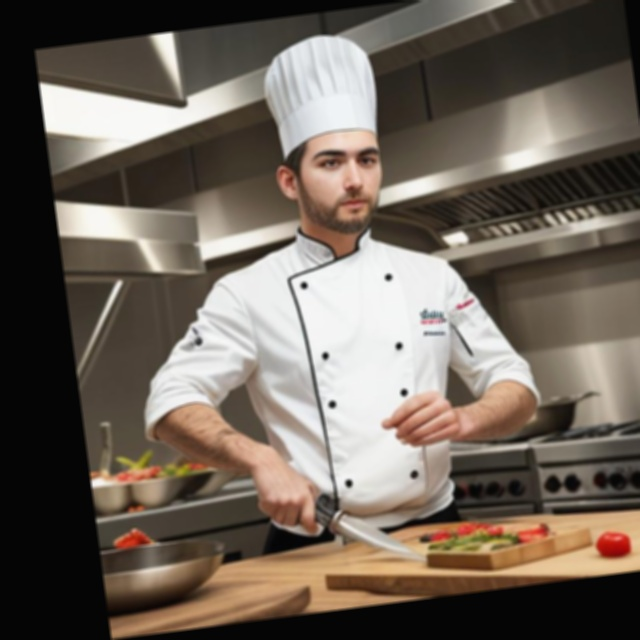Sharp-Object: (294, 470, 429, 582)
